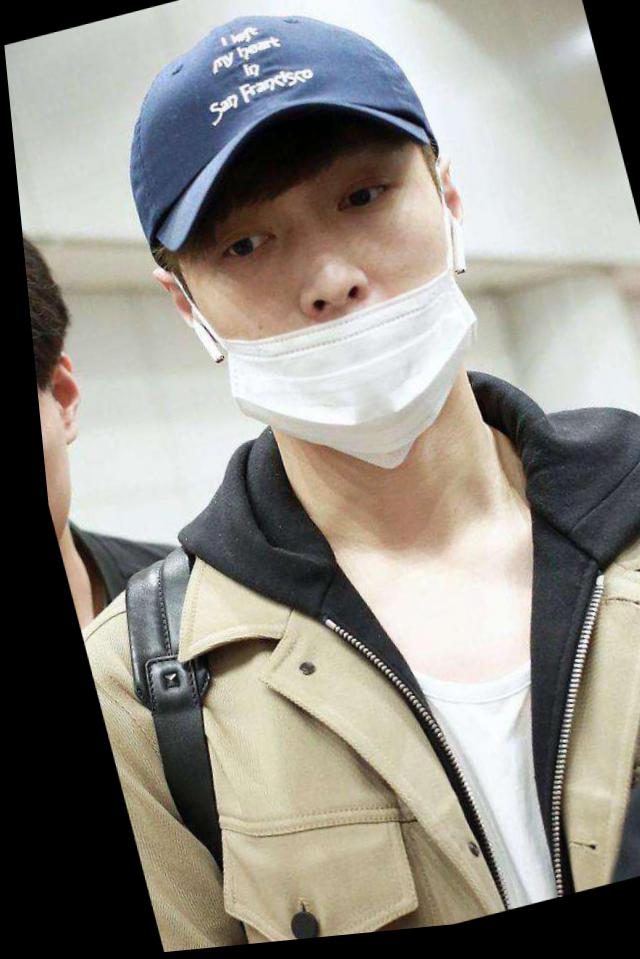WRONG: (156, 106, 495, 488)
